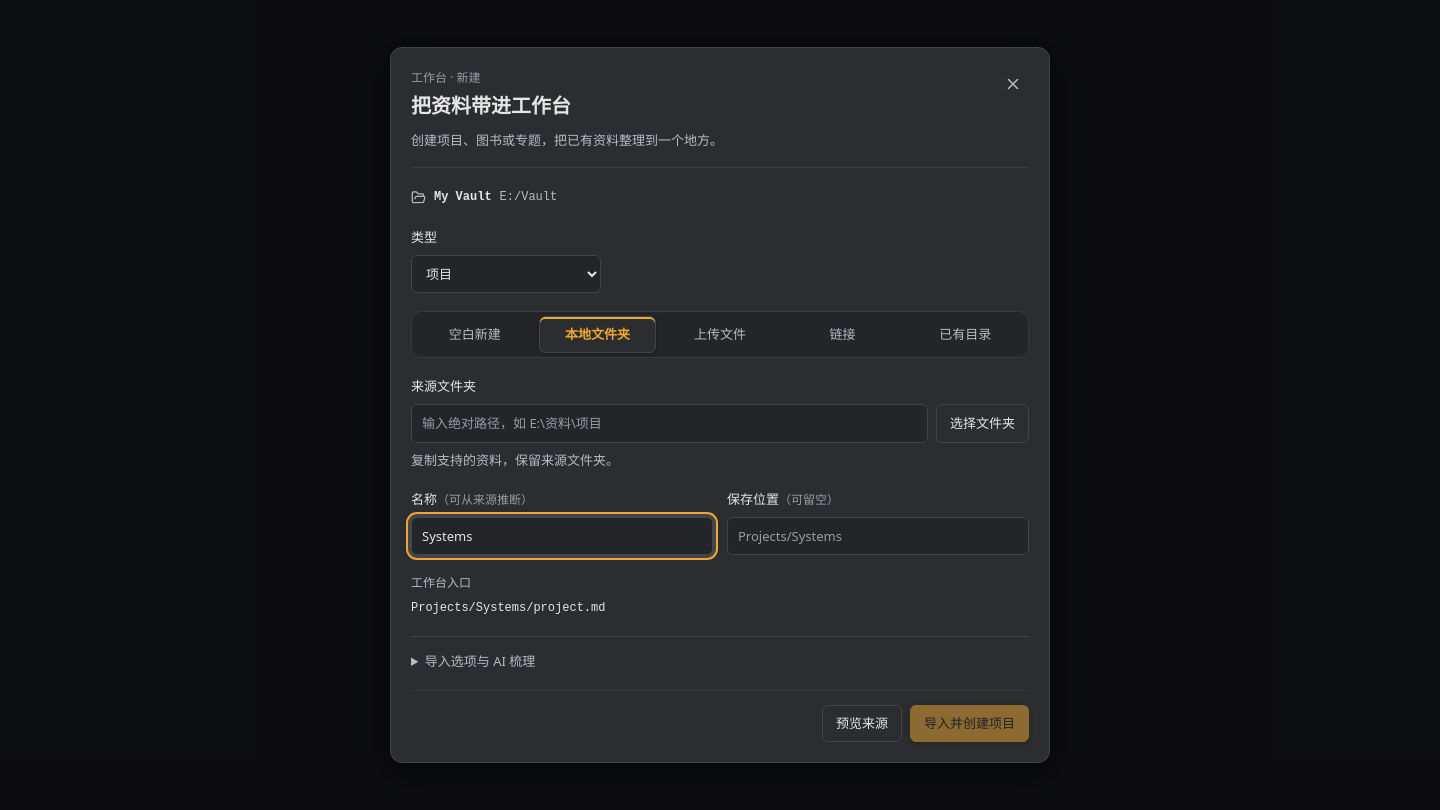
Test: SourceImportModal › lets a user choose a folder and inspect the exact destination before starting
The image size is (1440, 810).
Click the button with test id "source-pick-folder". click: (982, 424)
box: [936,404,1029,443]
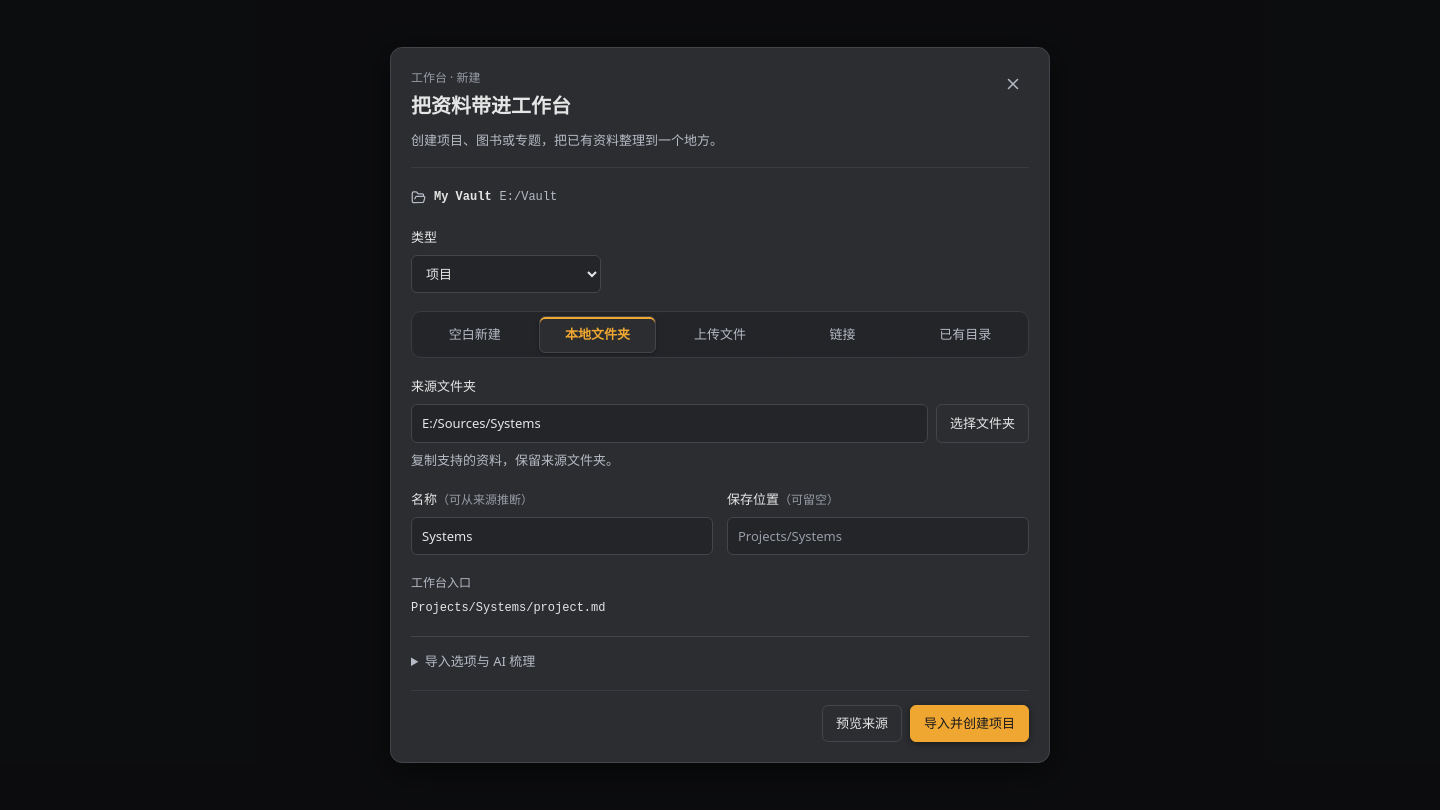
expect the field with test id "source-location" holds "E:/Sources/Systems": met, box [411,404,928,443]
Click the button with test id "source-preview". click: (862, 723)
box: [822,705,902,742]
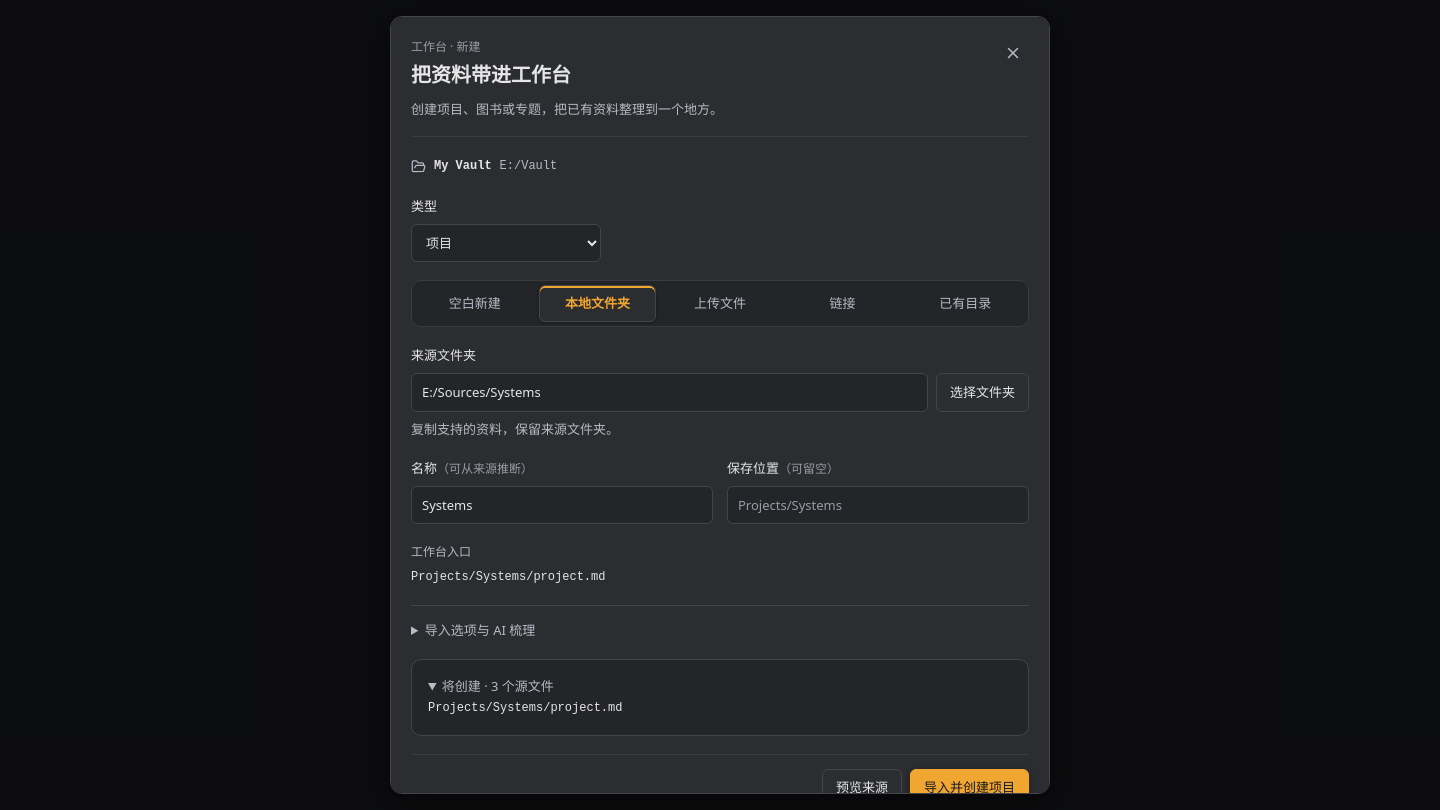
expect the element with class "si-preview" shows "Projects/Systems/project.md": met, box [428,701,622,715]
expect the element with class "si-preview" shows "3": met, box [442,677,554,695]
